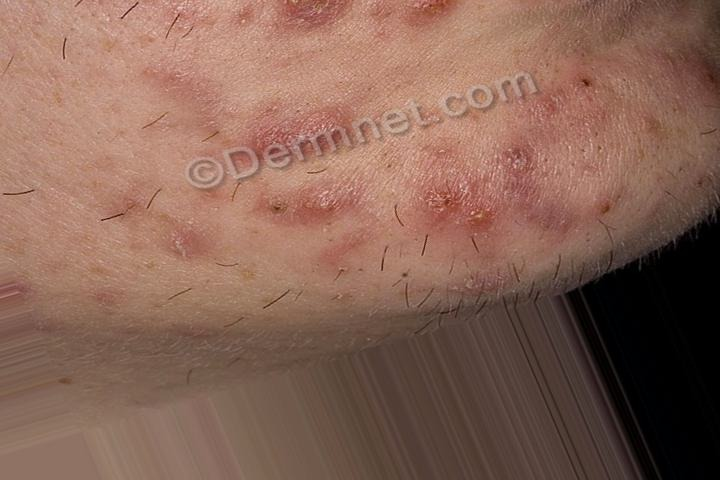Acne: (60, 2, 655, 280)
